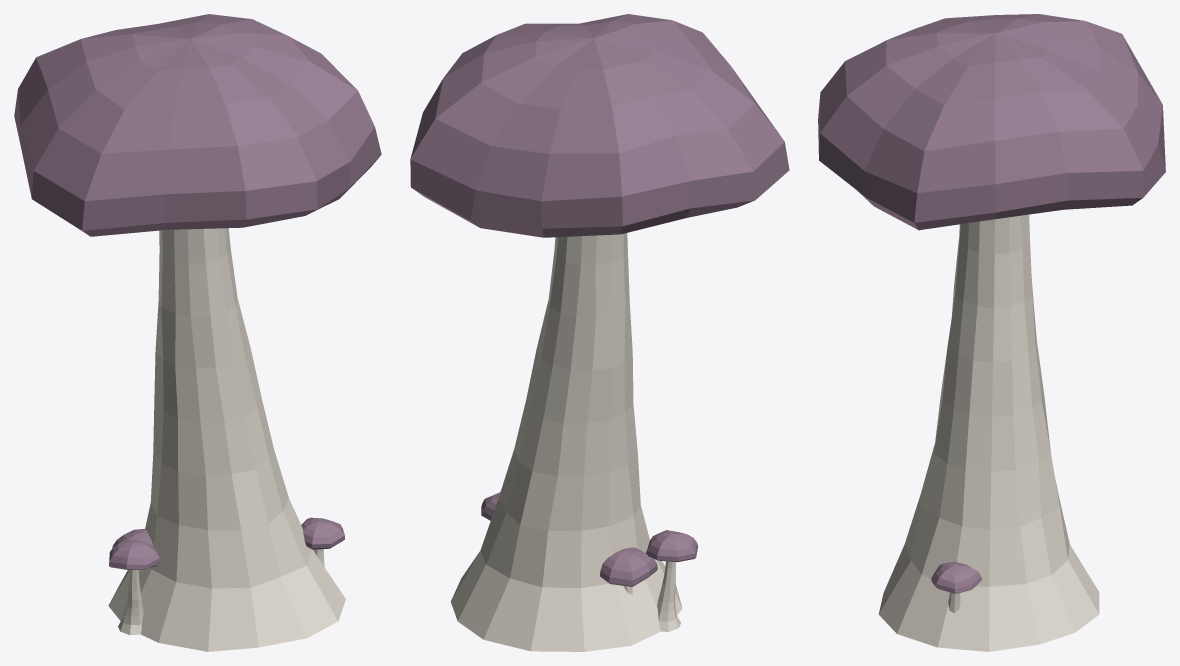
The model's file is cogumelo_gigante_a_sem_textura.glb.
3 views of the same model, side by side, from view 1: azimuth 30°, elevation 25°; view 2: azimuth 150°, elevation 25°; view 3: azimuth 270°, elevation 25° (orthographic). The views are drawn at different scales.
Visible parts, largest first — view 1: cogumelo_gigante_a; view 2: cogumelo_gigante_a; view 3: cogumelo_gigante_a.
Part boxes in pixels (x1,y1,x2,y2): cogumelo_gigante_a: (14,14,381,651); cogumelo_gigante_a: (410,14,789,651); cogumelo_gigante_a: (818,14,1165,651).
Size of the model in its own units: 0.92 by 1.6 by 0.911.
